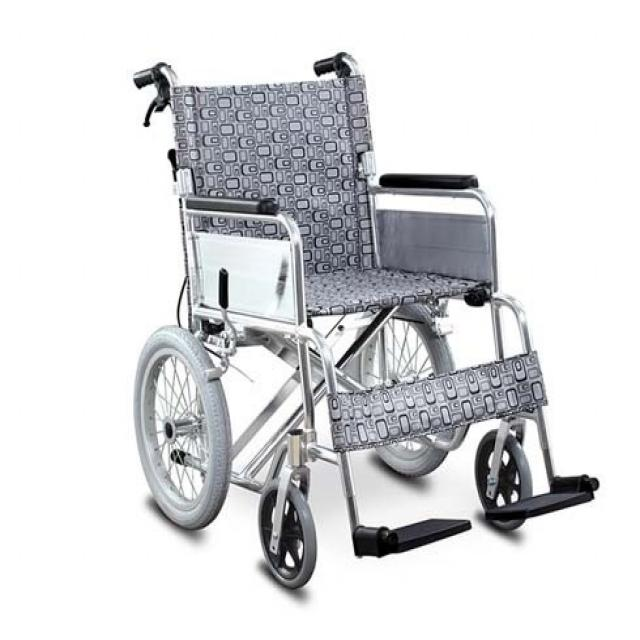wheelchair: (109, 34, 612, 599)
